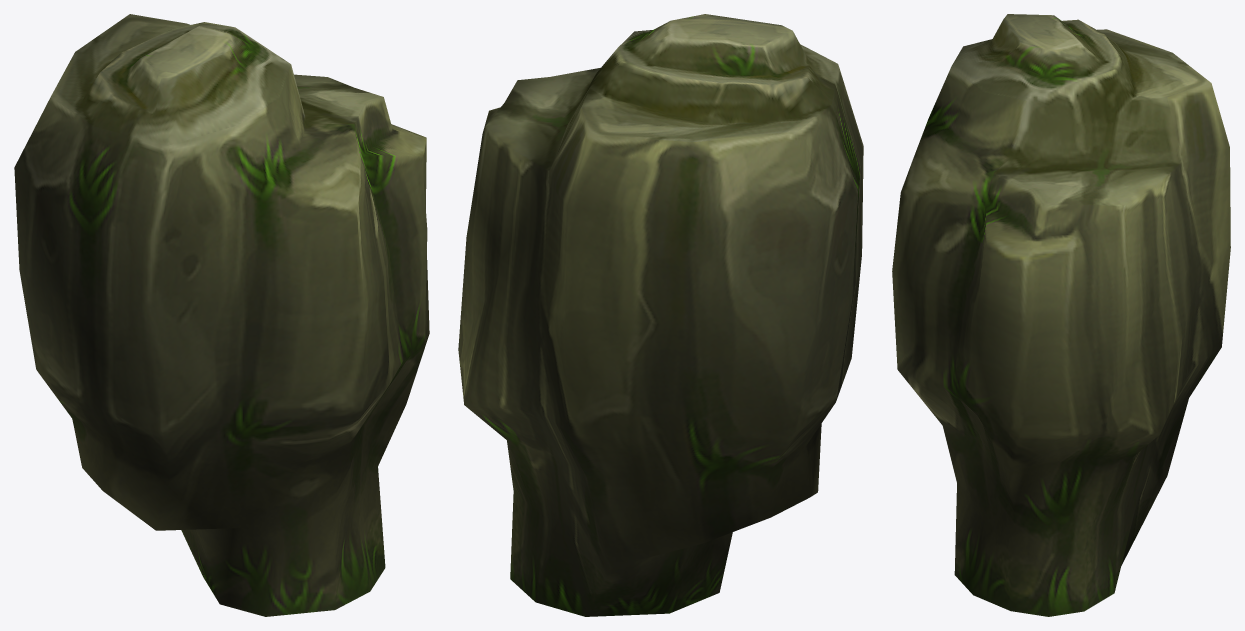
File: Rock_Formation_02_01.fbx
3 views of the same model, side by side, from view 1: azimuth 30°, elevation 25°; view 2: azimuth 150°, elevation 25°; view 3: azimuth 270°, elevation 25° (orthographic). The views are drawn at different scales.
Visible parts, largest first — view 1: Rock_Formation_02_01; view 2: Rock_Formation_02_01; view 3: Rock_Formation_02_01.
Part boxes in pixels (<box>): Rock_Formation_02_01: <box>14,14,429,616</box>; Rock_Formation_02_01: <box>458,14,863,616</box>; Rock_Formation_02_01: <box>892,14,1230,616</box>.
Bounding box in the file's own units: 92.26 × 134 × 81.87.
